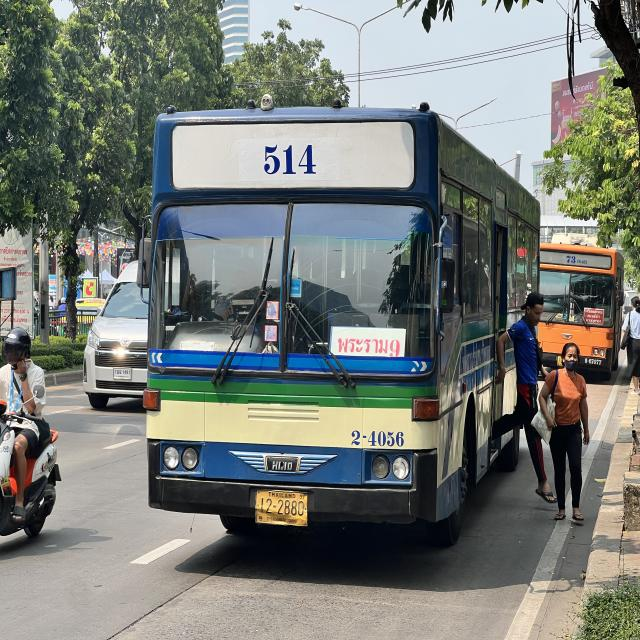BMTA-bus: (134, 86, 545, 559), (540, 230, 626, 383)
Bus-Line-Number: (237, 140, 339, 180), (564, 252, 588, 266)
Destination-Sign-Extra-Bus: (329, 325, 406, 357), (584, 307, 603, 325)
